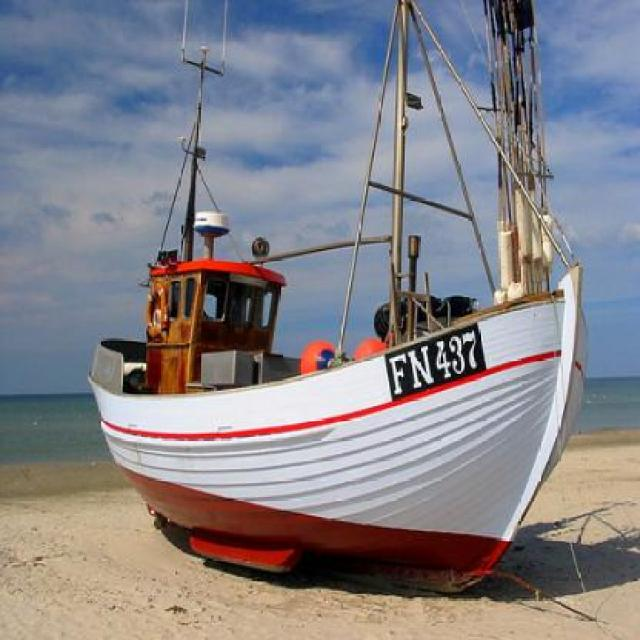ship: (83, 0, 606, 609)
